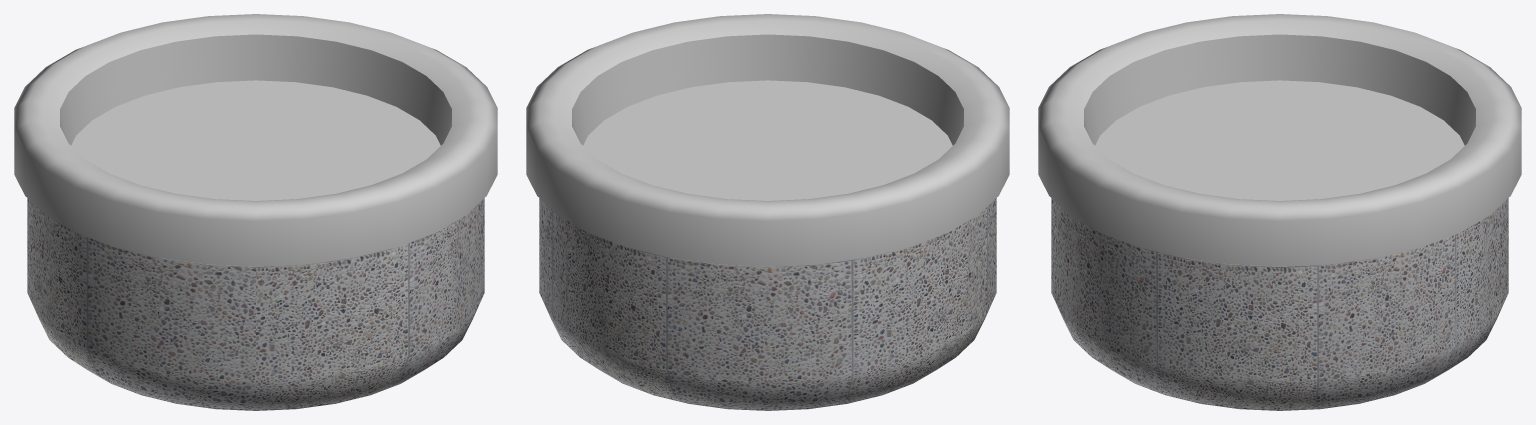
File: prp_potRound.fbx
3 views of the same model, side by side, from view 1: azimuth 30°, elevation 25°; view 2: azimuth 150°, elevation 25°; view 3: azimuth 270°, elevation 25° (orthographic).
Parts seen in each view (by area): view 1: prp_potRound; view 2: prp_potRound; view 3: prp_potRound.
Part boxes in pixels (box(x1,y1,x2,y2)): prp_potRound: box(14, 14, 497, 410); prp_potRound: box(526, 14, 1009, 410); prp_potRound: box(1038, 14, 1521, 410).
Bounding box in the file's own units: 171 × 84.61 × 170.
